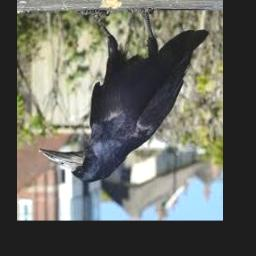Crow: (39, 8, 209, 185)
